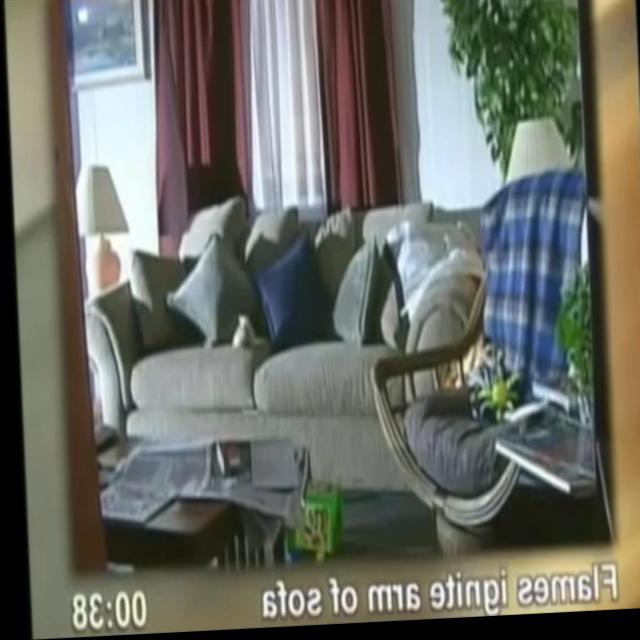fire: (434, 333, 483, 403)
